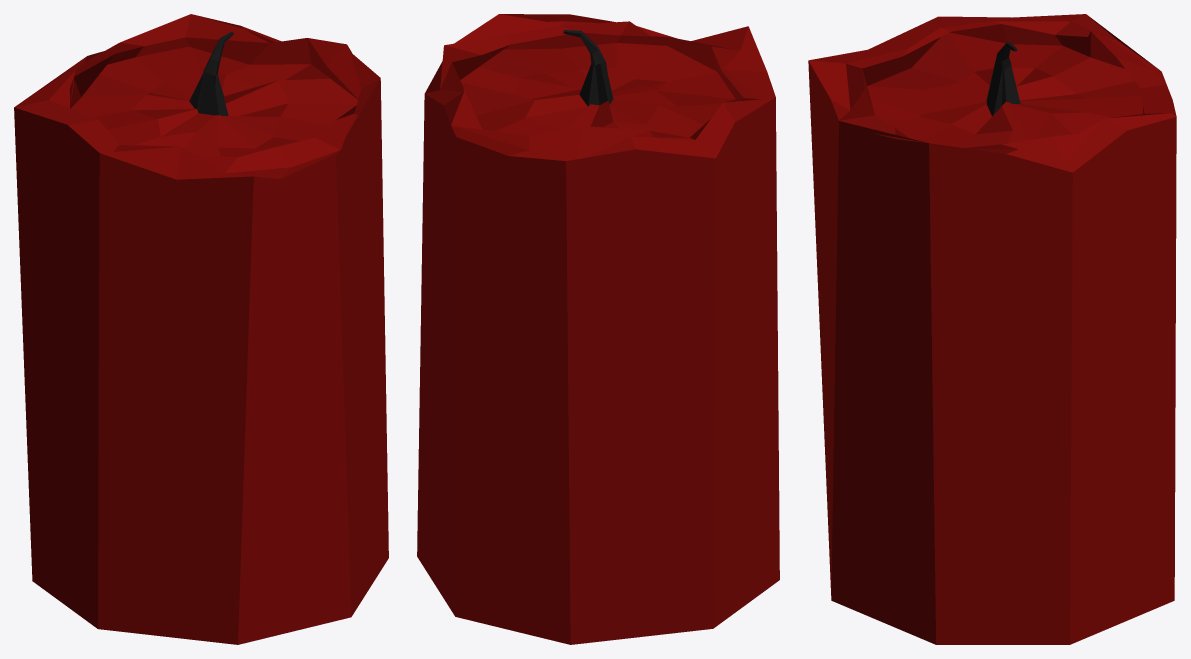
The model's file is Kärpänen_Kynttilä.fbx.
The picture shows the model from 3 angles, left to right: view 1: azimuth 30°, elevation 25°; view 2: azimuth 150°, elevation 25°; view 3: azimuth 270°, elevation 25°; orthographic projection. The views are drawn at different scales.
Visible parts, largest first — view 1: Cube.105; view 2: Cube.105; view 3: Cube.105.
Part boxes in pixels (bbox=[...]): Cube.105: bbox=[14, 14, 388, 644]; Cube.105: bbox=[417, 14, 779, 644]; Cube.105: bbox=[808, 14, 1176, 644].
Size of the model in its own units: 207 by 346 by 215.
